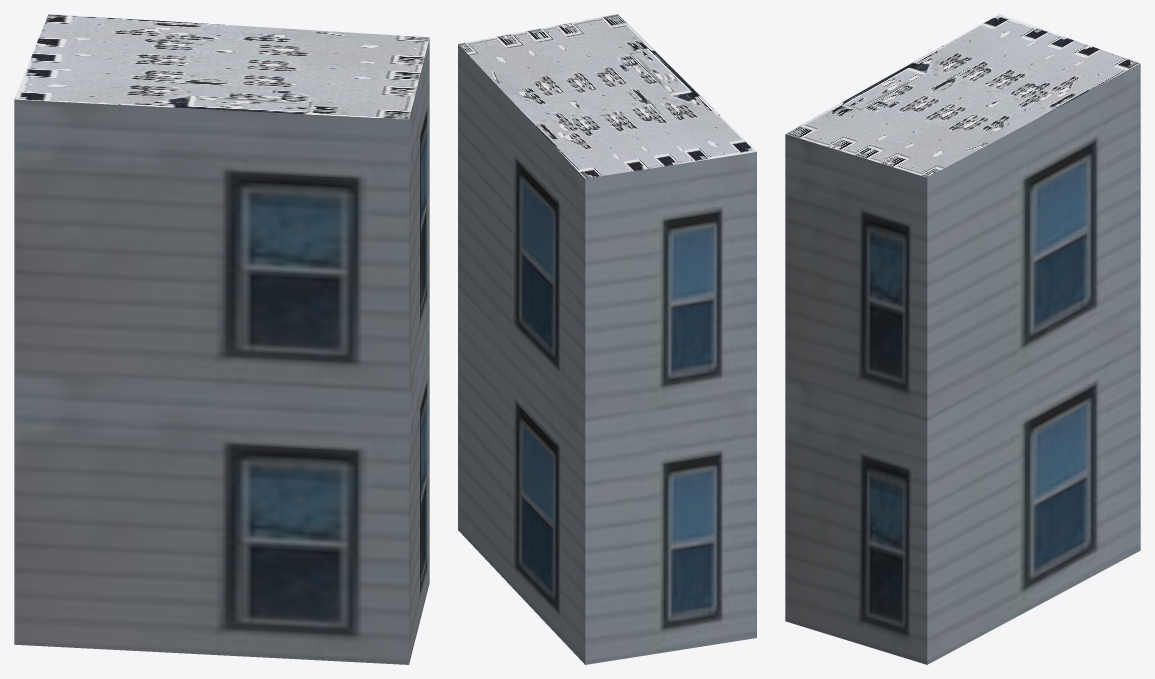
File: ResTex__3179.fbx
3 renders of one model, left to right at view 1: azimuth 30°, elevation 25°; view 2: azimuth 150°, elevation 25°; view 3: azimuth 270°, elevation 25°, orthographic. The views are drawn at different scales.
Parts seen in each view (by area): view 1: CityEngineMaterial_18_m, CityEngineMaterial_m; view 2: CityEngineMaterial_18_m, CityEngineMaterial_m; view 3: CityEngineMaterial_18_m, CityEngineMaterial_m.
Part boxes in pixels (x1,y1,x2,y2): CityEngineMaterial_18_m: (14, 39, 429, 664); CityEngineMaterial_m: (14, 14, 429, 119); CityEngineMaterial_18_m: (458, 44, 756, 664); CityEngineMaterial_m: (458, 14, 756, 178); CityEngineMaterial_18_m: (785, 63, 1140, 664); CityEngineMaterial_m: (786, 14, 1139, 177).
Size of the model in its own units: 4.32 by 6 by 3.96.
2 materials, 2 textured.
